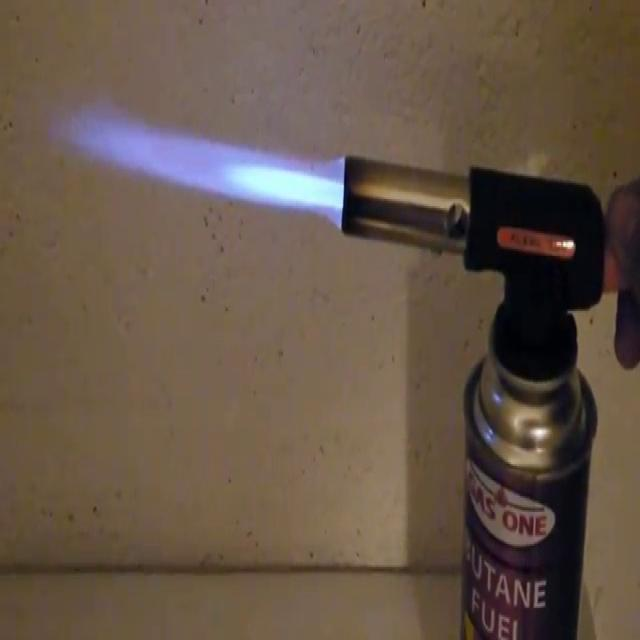fire: (61, 52, 345, 271)
